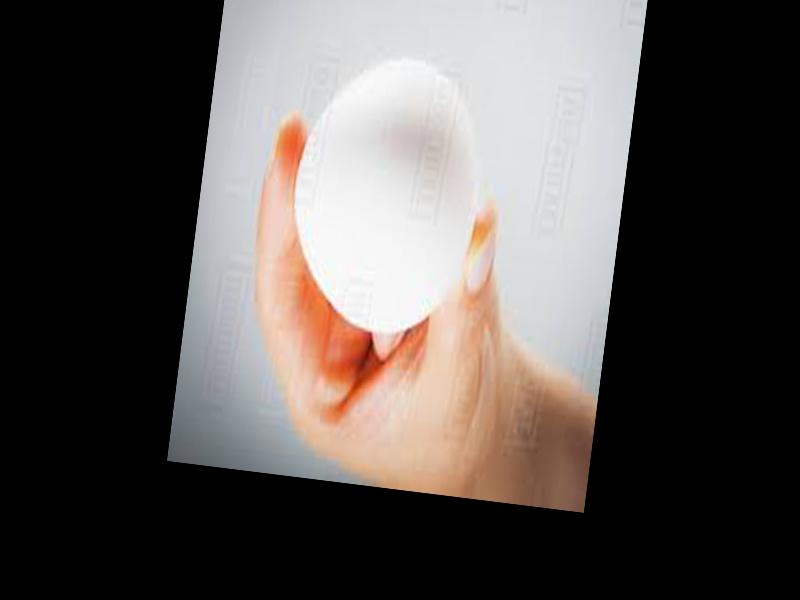Eggs: (279, 47, 490, 340)
